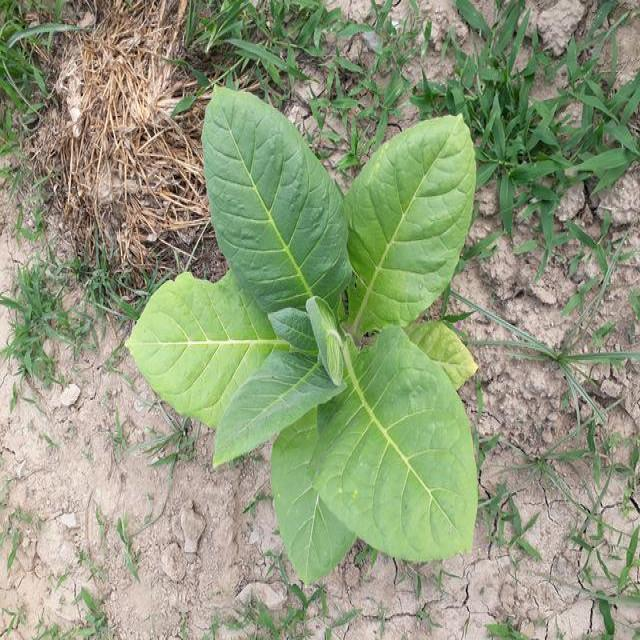crop: (126, 75, 488, 585)
